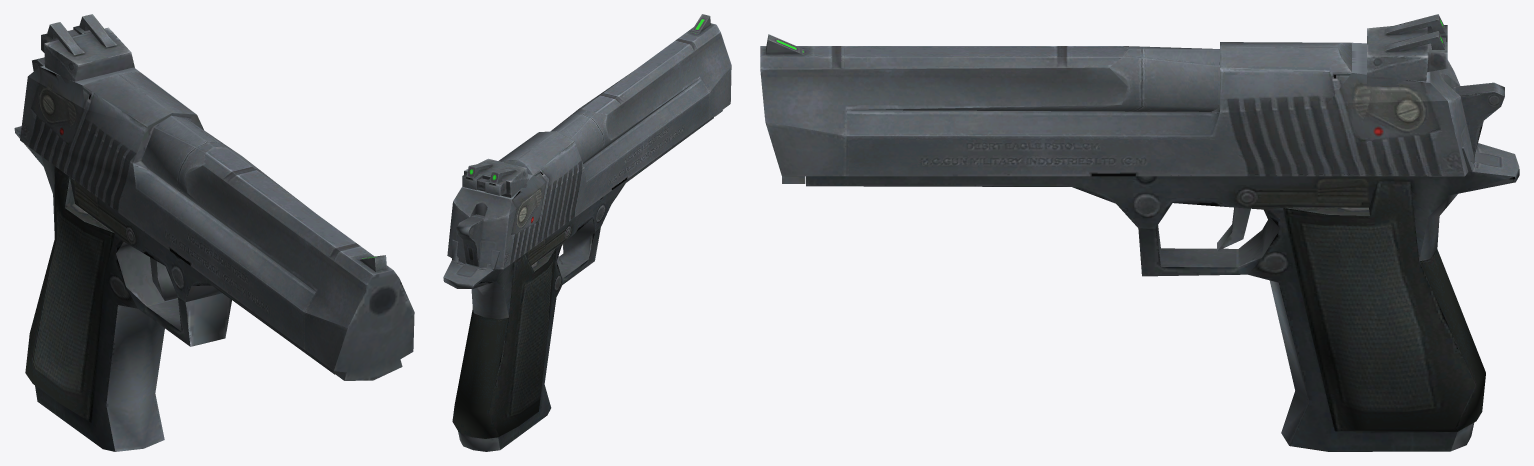
File: Pistol_sq_03_lod1_LOD_(000968).glb
3 renders of one model, left to right at view 1: azimuth 30°, elevation 25°; view 2: azimuth 150°, elevation 25°; view 3: azimuth 270°, elevation 25°, orthographic. The views are drawn at different scales.
Parts seen in each view (by area): view 1: sq_03_lod1; view 2: sq_03_lod1; view 3: sq_03_lod1.
Part boxes in pixels (x1,y1,x2,y2): sq_03_lod1: [14, 14, 414, 451]; sq_03_lod1: [443, 14, 731, 451]; sq_03_lod1: [760, 14, 1519, 451].
Bounding box in the file's own units: 0.0536 × 0.2217 × 0.3708.
1 material, 1 textured.
